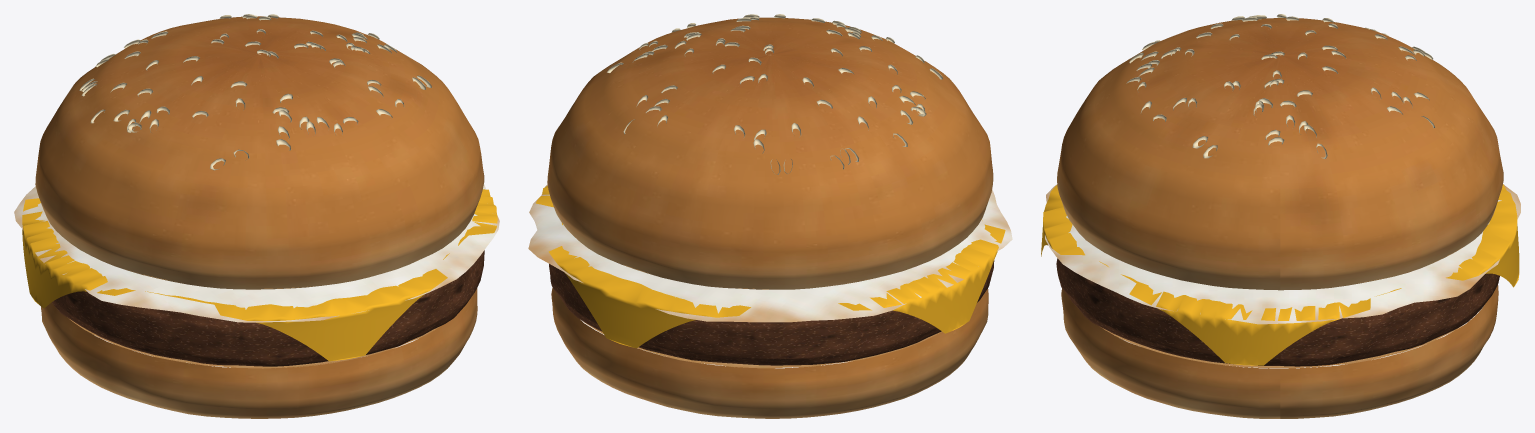
Rendered from burger-x-egg.glb.
3 views of the same model, side by side, from view 1: azimuth 30°, elevation 25°; view 2: azimuth 150°, elevation 25°; view 3: azimuth 270°, elevation 25° (orthographic).
Visible parts, largest first — view 1: burger-x-egg; view 2: burger-x-egg; view 3: burger-x-egg.
Boxes of the visible parts, x1,y1,x2,y2 form: burger-x-egg: [14, 14, 499, 418]; burger-x-egg: [528, 14, 1012, 418]; burger-x-egg: [1041, 14, 1520, 418].
Size of the model in its own units: 0.1222 by 0.0809 by 0.1215.
7 materials, 4 textured.
